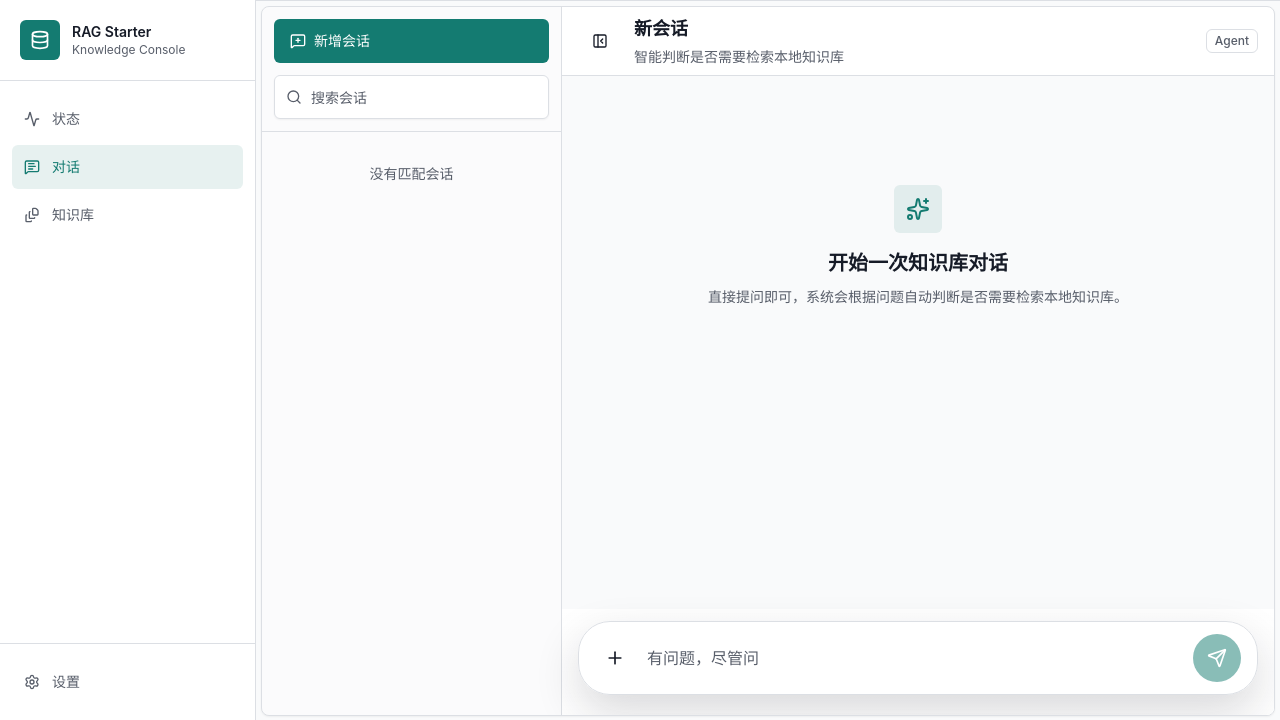
Test: App › renders generated document attachment in chat route
The image size is (1280, 720).
Type "生成文档" into the text box named "输入消息".
click(914, 658); type("生成文档")  # box x1=647 y1=638 x2=1181 y2=678
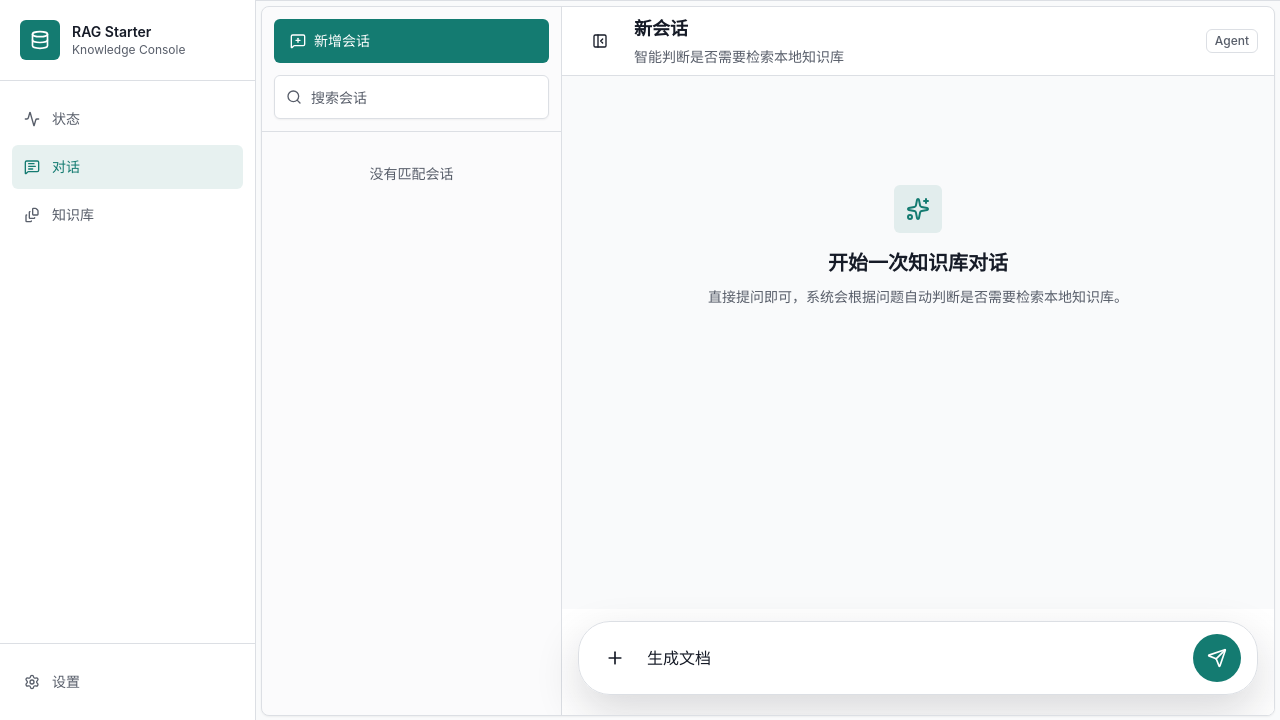
Click the button named "发送消息".
click(1217, 658)  # box x1=1193 y1=634 x2=1241 y2=682
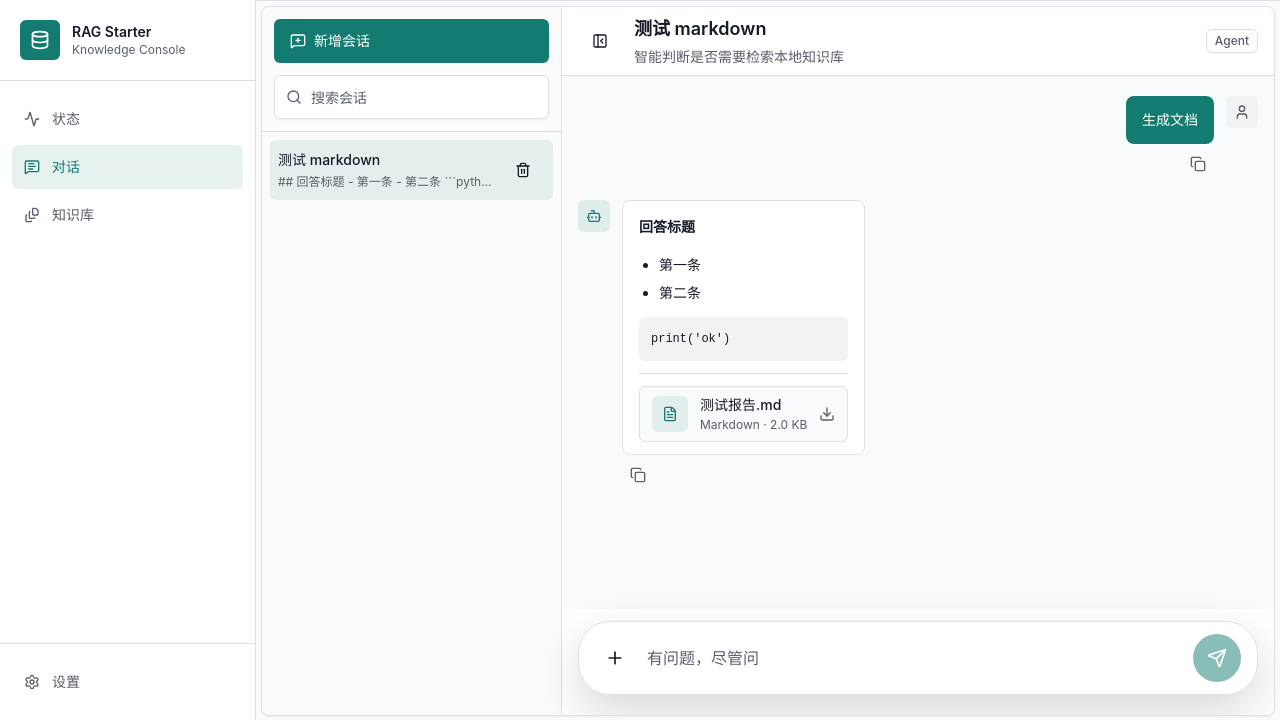
expect the text "Markdown · 2.0 KB" is shown: met, box x1=700 y1=417 x2=807 y2=433
